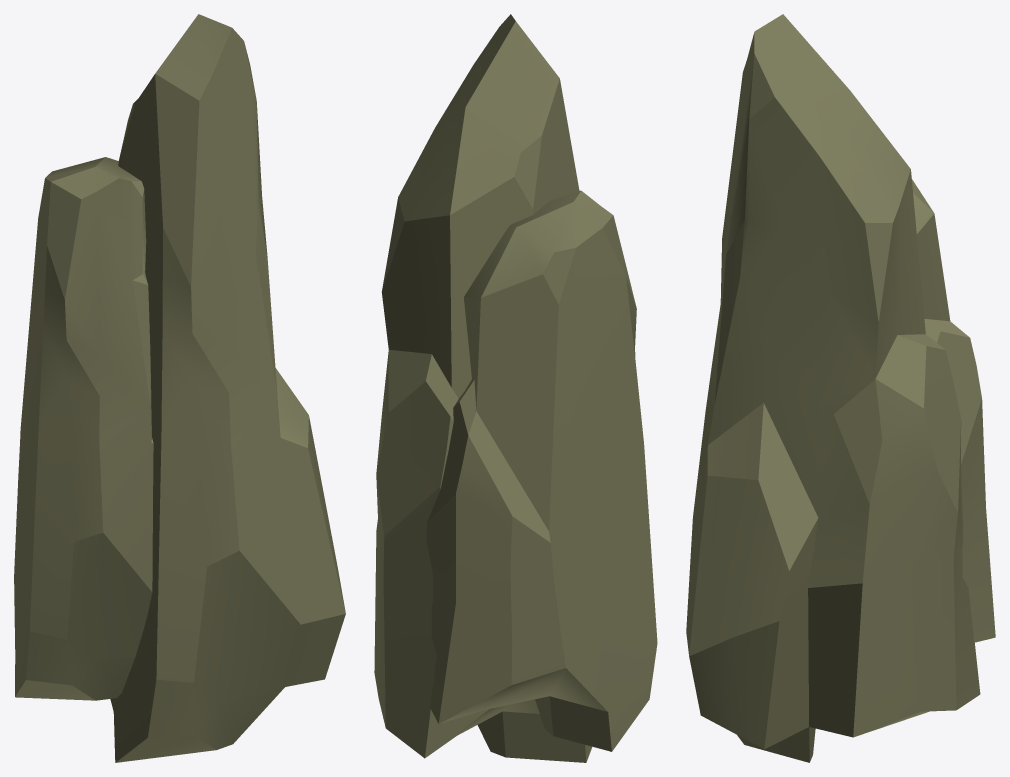
File: Rock_4.fbx
3 views of the same model, side by side, from view 1: azimuth 30°, elevation 25°; view 2: azimuth 150°, elevation 25°; view 3: azimuth 270°, elevation 25° (orthographic). The views are drawn at different scales.
Parts seen in each view (by area): view 1: Rock_4; view 2: Rock_4; view 3: Rock_4.
Boxes of the visible parts, left/top/right/bottom form: Rock_4: left=14, top=14, right=345, bottom=762; Rock_4: left=374, top=14, right=657, bottom=762; Rock_4: left=686, top=14, right=995, bottom=762.
Size of the model in its own units: 0.1819 by 0.4559 by 0.172.
